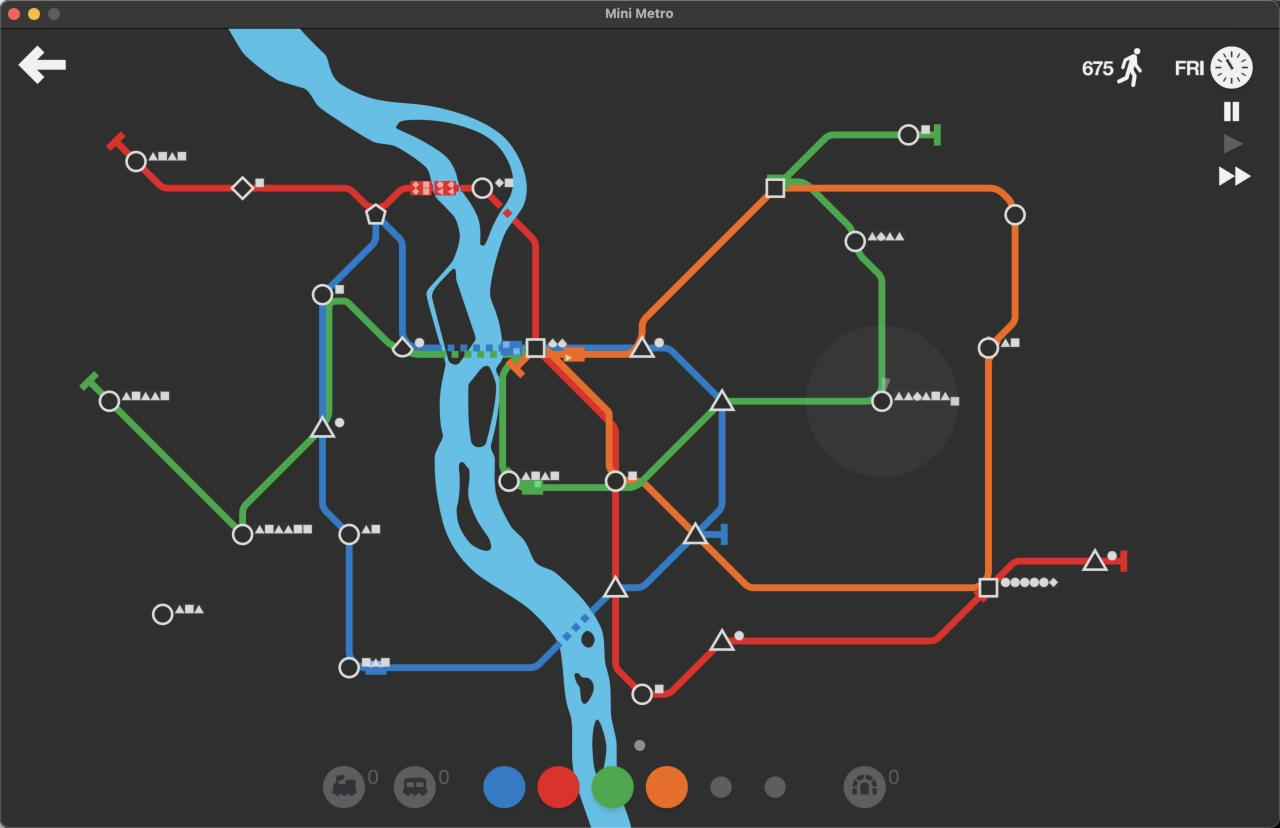CIRCLE: (151, 603, 174, 626), (98, 390, 121, 413), (631, 683, 654, 706), (1004, 203, 1027, 226), (977, 336, 999, 360), (897, 123, 919, 146), (311, 283, 333, 306), (338, 656, 360, 679), (498, 469, 520, 492), (871, 390, 893, 413), (125, 150, 147, 172), (471, 177, 493, 199), (232, 523, 254, 545), (844, 231, 866, 253), (605, 469, 627, 491), (338, 523, 360, 545)
GEM: (231, 176, 255, 200)
PENTAGON: (365, 203, 387, 225)
SQUARE: (525, 337, 547, 358), (978, 577, 999, 598), (765, 177, 785, 198)
TRIANGLE: (710, 627, 738, 652), (1081, 547, 1109, 572), (682, 520, 708, 545), (309, 415, 336, 439), (709, 388, 735, 412), (629, 335, 656, 358), (604, 575, 629, 598)
WEDGE: (392, 336, 414, 358)
